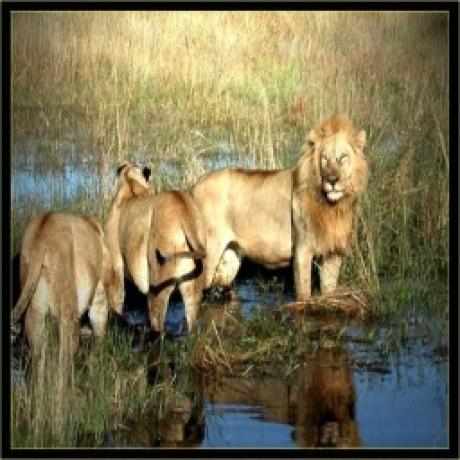Lion: (198, 110, 375, 306), (105, 156, 211, 329), (13, 206, 127, 345)
